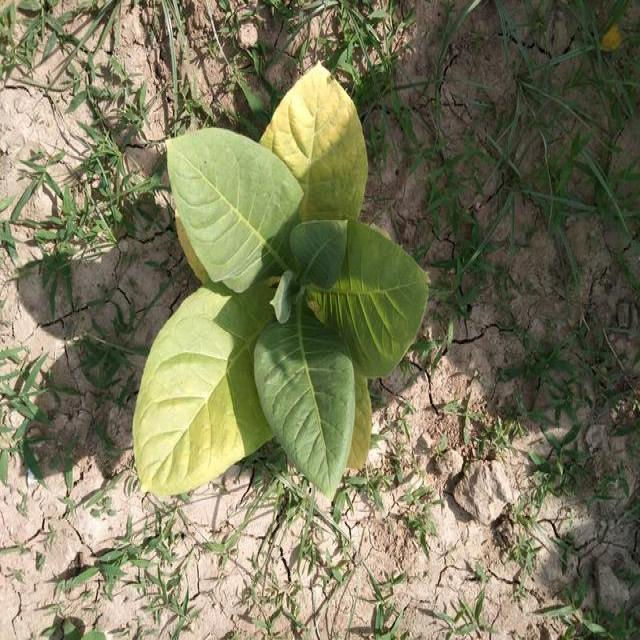crop: (134, 58, 432, 505)
